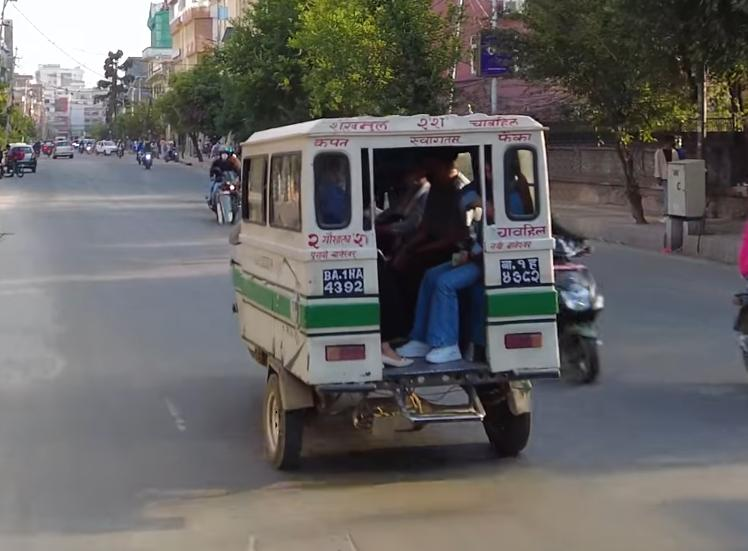bike: (211, 158, 248, 228)
scooter: (542, 227, 610, 387)
tempo: (207, 100, 568, 482)
